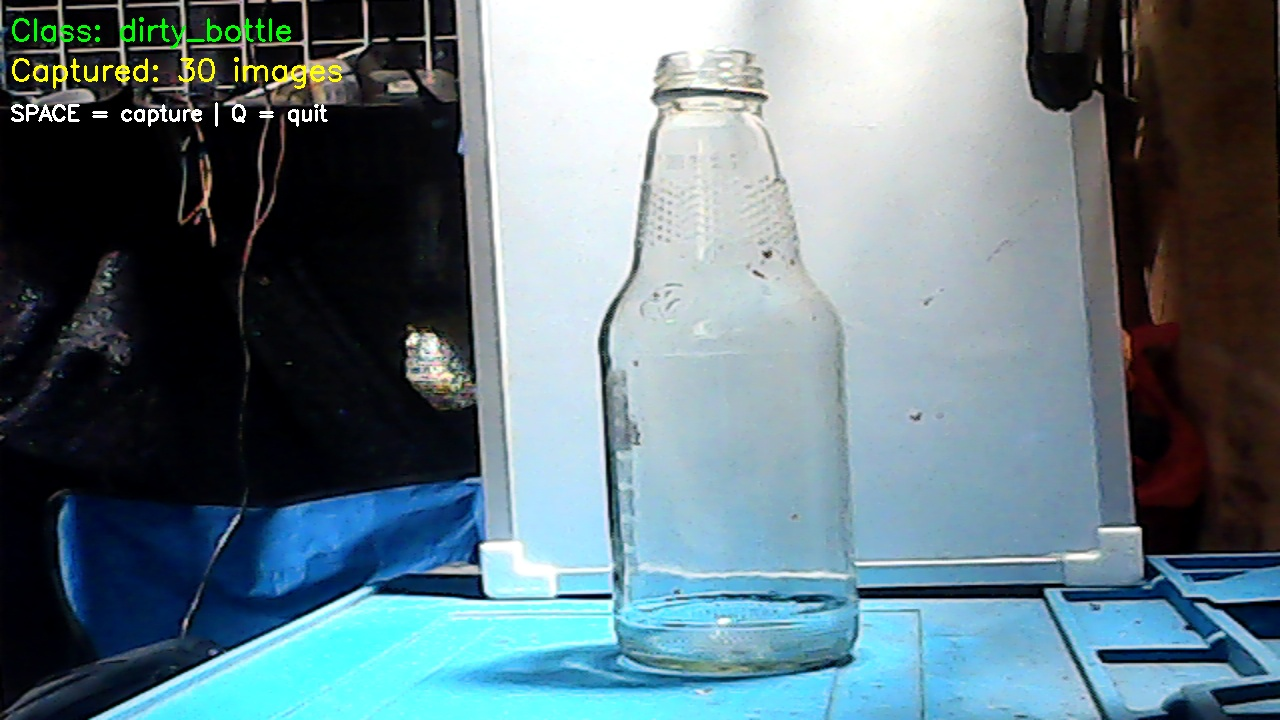dirty_bottle: (578, 25, 863, 669)
